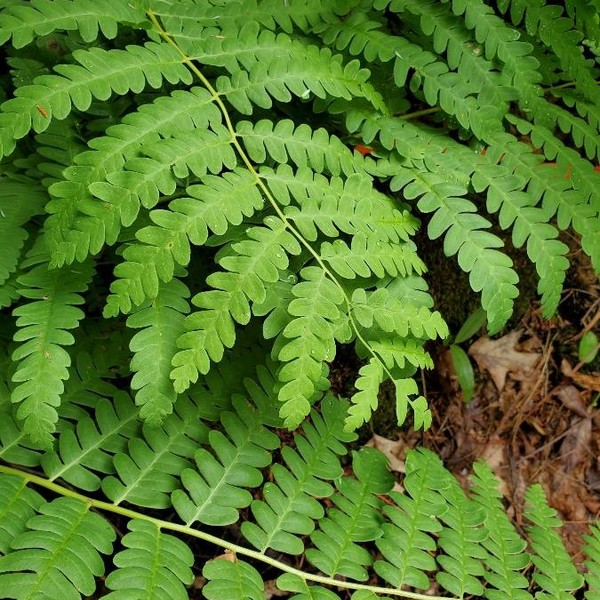obstacle: (54, 9, 484, 437), (19, 338, 563, 588)
